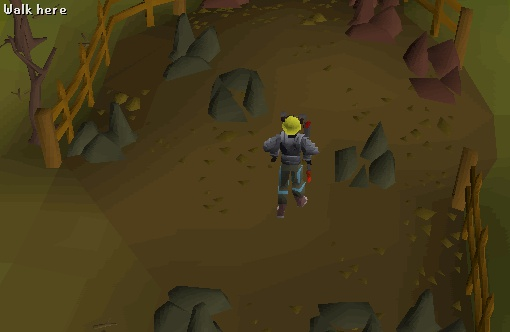coal: (325, 114, 415, 206), (194, 48, 284, 140), (55, 88, 145, 180)
iron: (390, 20, 473, 113), (329, 1, 411, 45)
